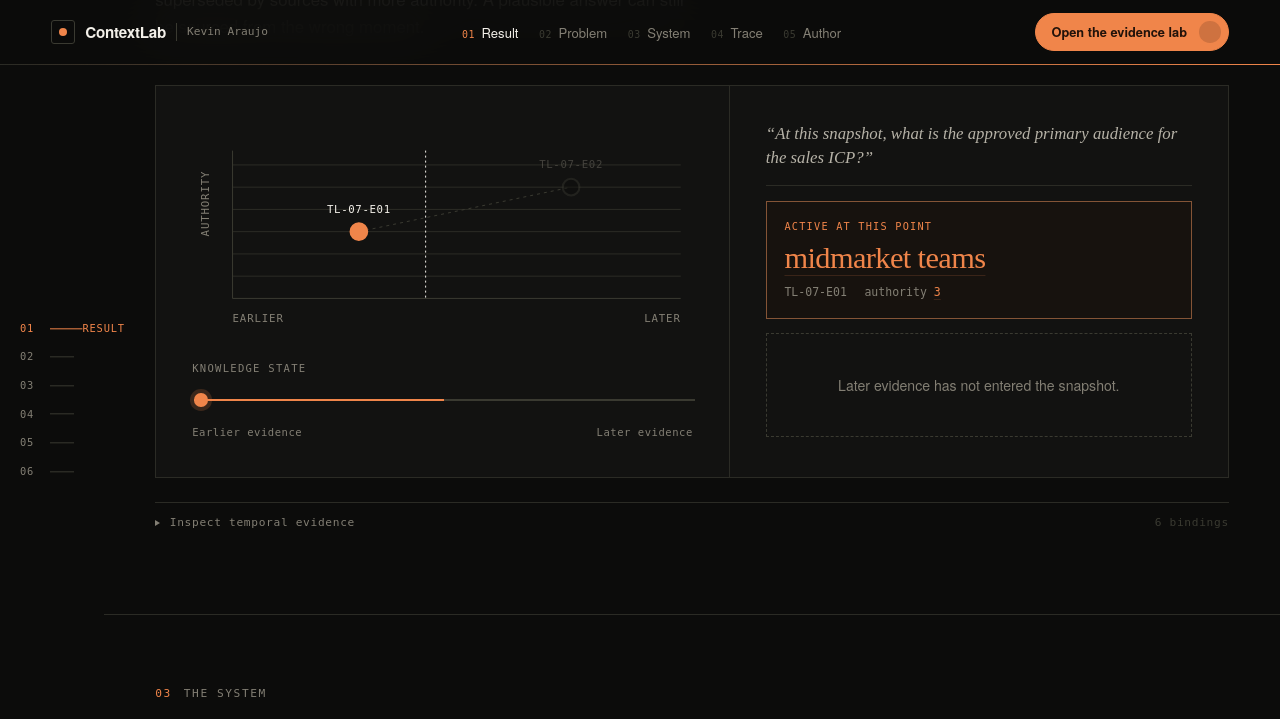
Test: guided ContextLab Story › makes temporal supersession visible through an accessible time control
(page scrolled)
Expected: the text "Later evidence has not entered the snapshot." is shown, [766,333,1192,437]
Set the slider labelled "Knowledge state" to "1": coordinates (687, 400) [194,388,695,412]
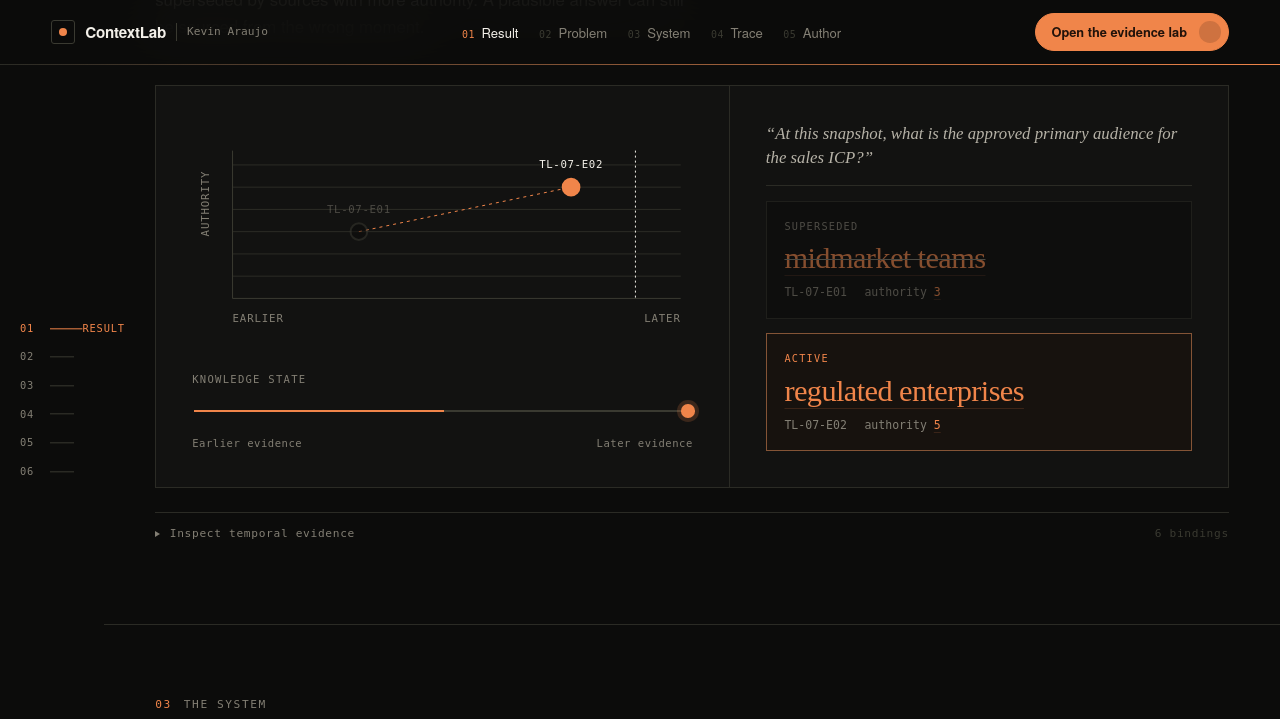
Expected: the text "superseded" is shown, [784,220,858,232]
Expected: the text "regulated enterprises" is shown, [784,374,1024,408]
